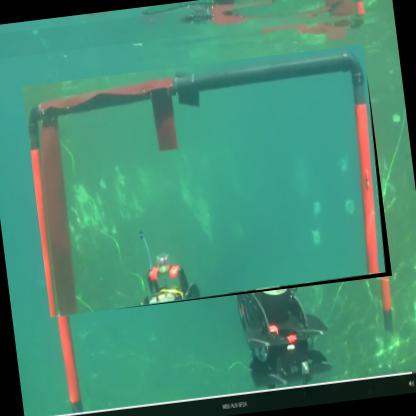gate: (23, 46, 394, 320)
